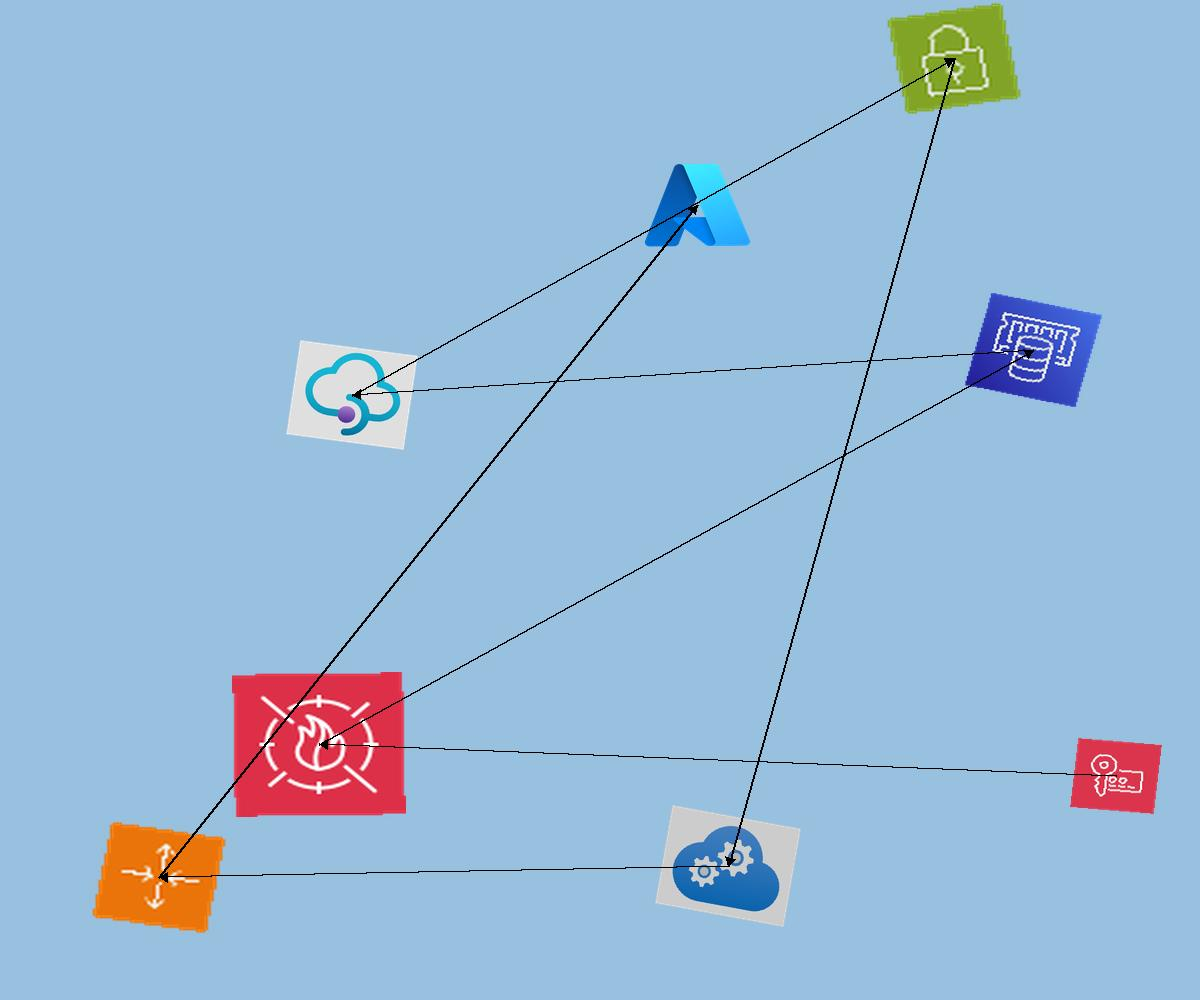AWS-ElastiCache: (964, 292, 1103, 408)
AWS-Key-Management-Service: (1070, 738, 1162, 814)
AWS-Public-subnet: (885, 1, 1023, 116)
AWS-Scaling-group: (90, 820, 228, 935)
AWS-WAF: (232, 672, 406, 817)
Azure_api_gateway: (286, 340, 418, 450)
Azure_cloud_services: (655, 805, 801, 927)
Azure_services: (639, 157, 755, 253)
